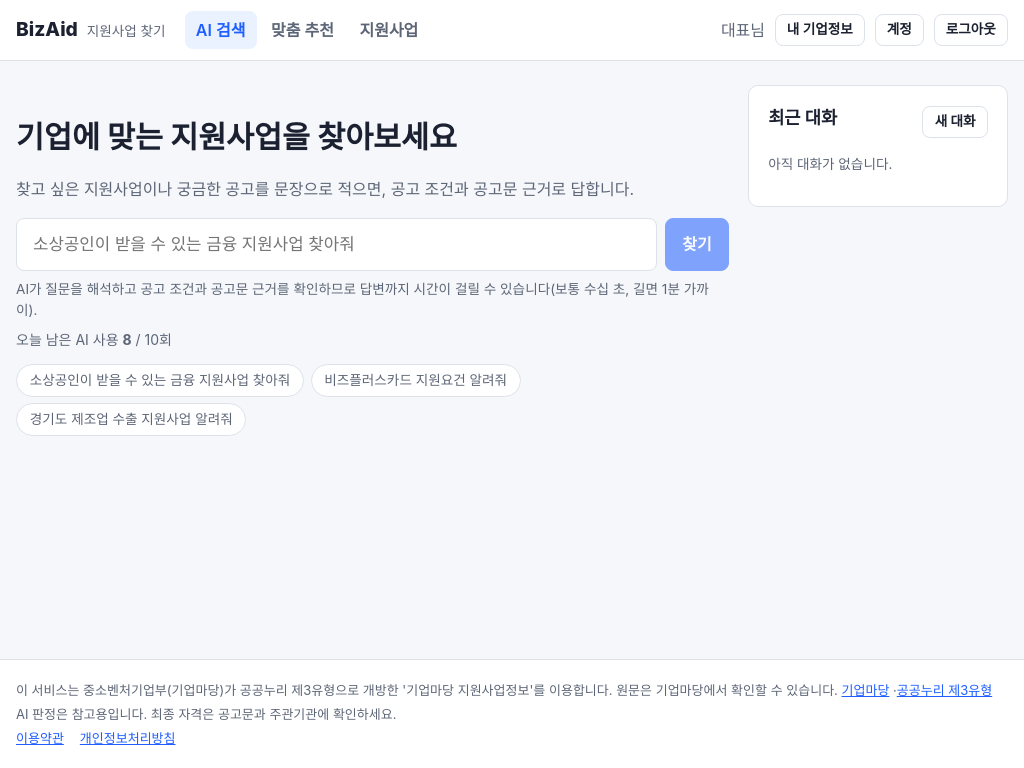
Test: DOCUMENT_QA 답변과 공고문 근거(공고명·페이지·문단)를 보여 준다
In the field named "지원사업 질문": point(337, 244) [16, 218, 657, 271], type "비즈플러스카드 지원요건 알려줘"
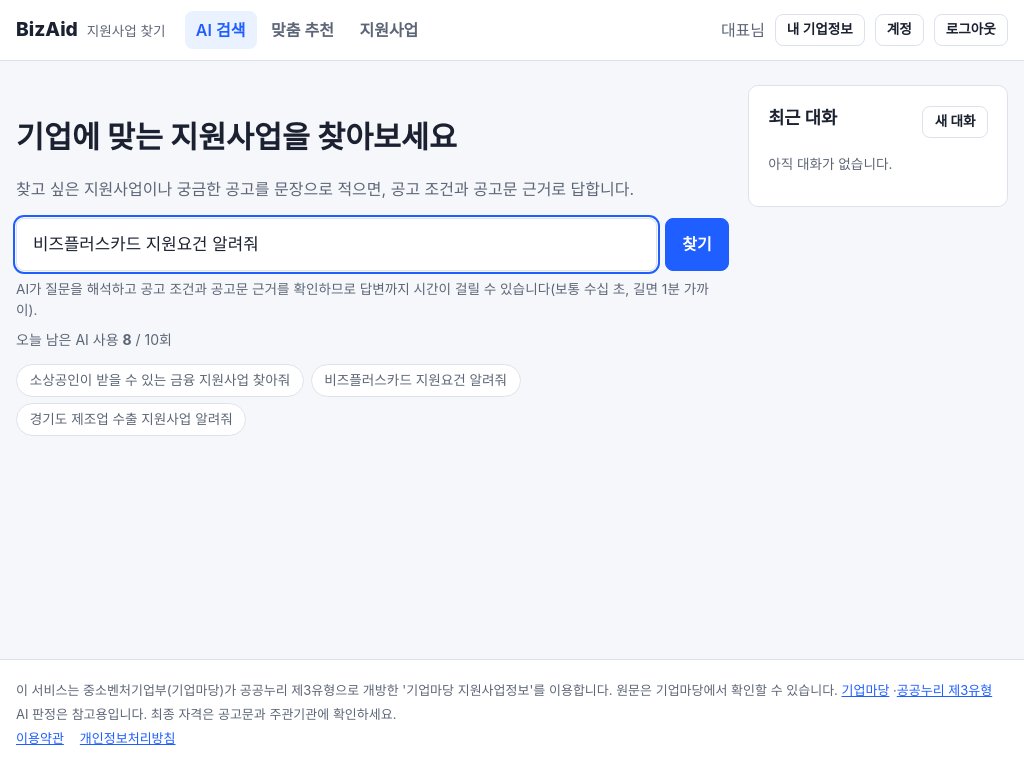
Click the button "찾기": point(697, 244) [665, 218, 729, 271]
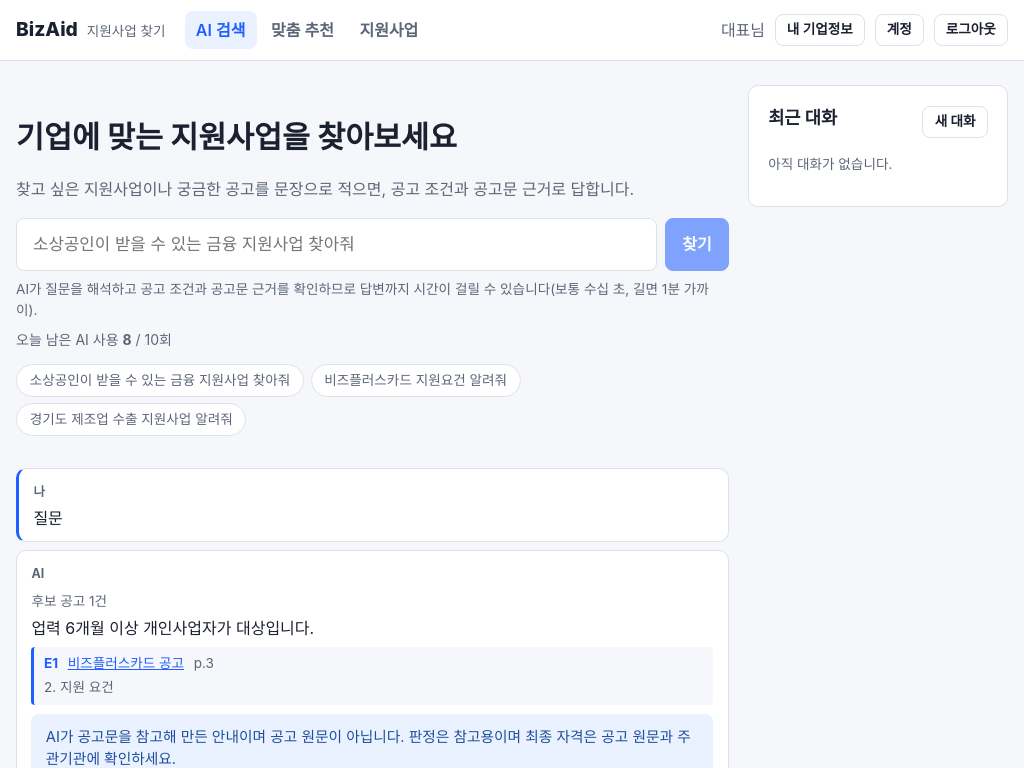
Expected: the text "업력 6개월 이상 개인사업자가 대상입니다." is shown, [31, 618, 314, 638]
Expected: the list named "공고문 근거" shows "비즈플러스카드 공고", [68, 653, 184, 674]
Expected: the list named "공고문 근거" shows "p.3", [194, 655, 214, 671]
